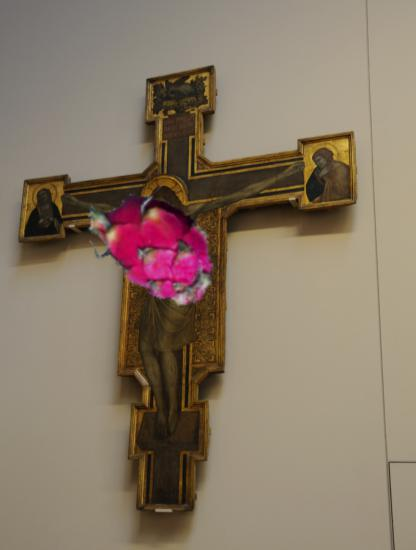Pitahaya: (80, 173, 227, 320)
